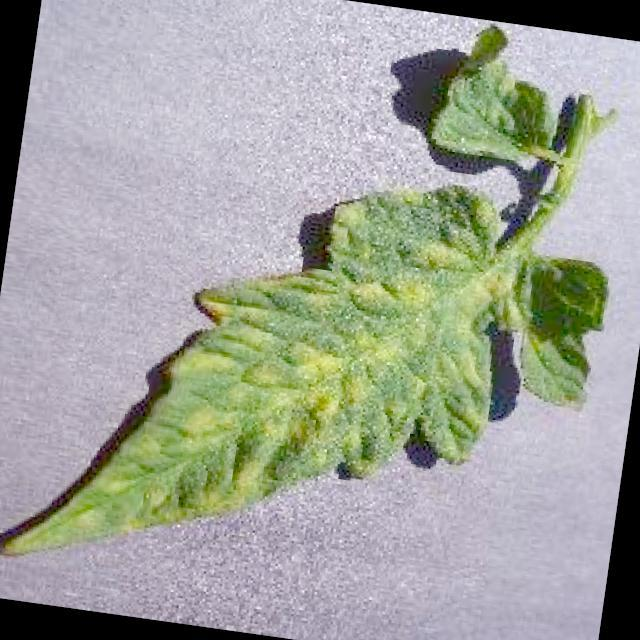Tomato mold leaf: (0, 127, 624, 637)
